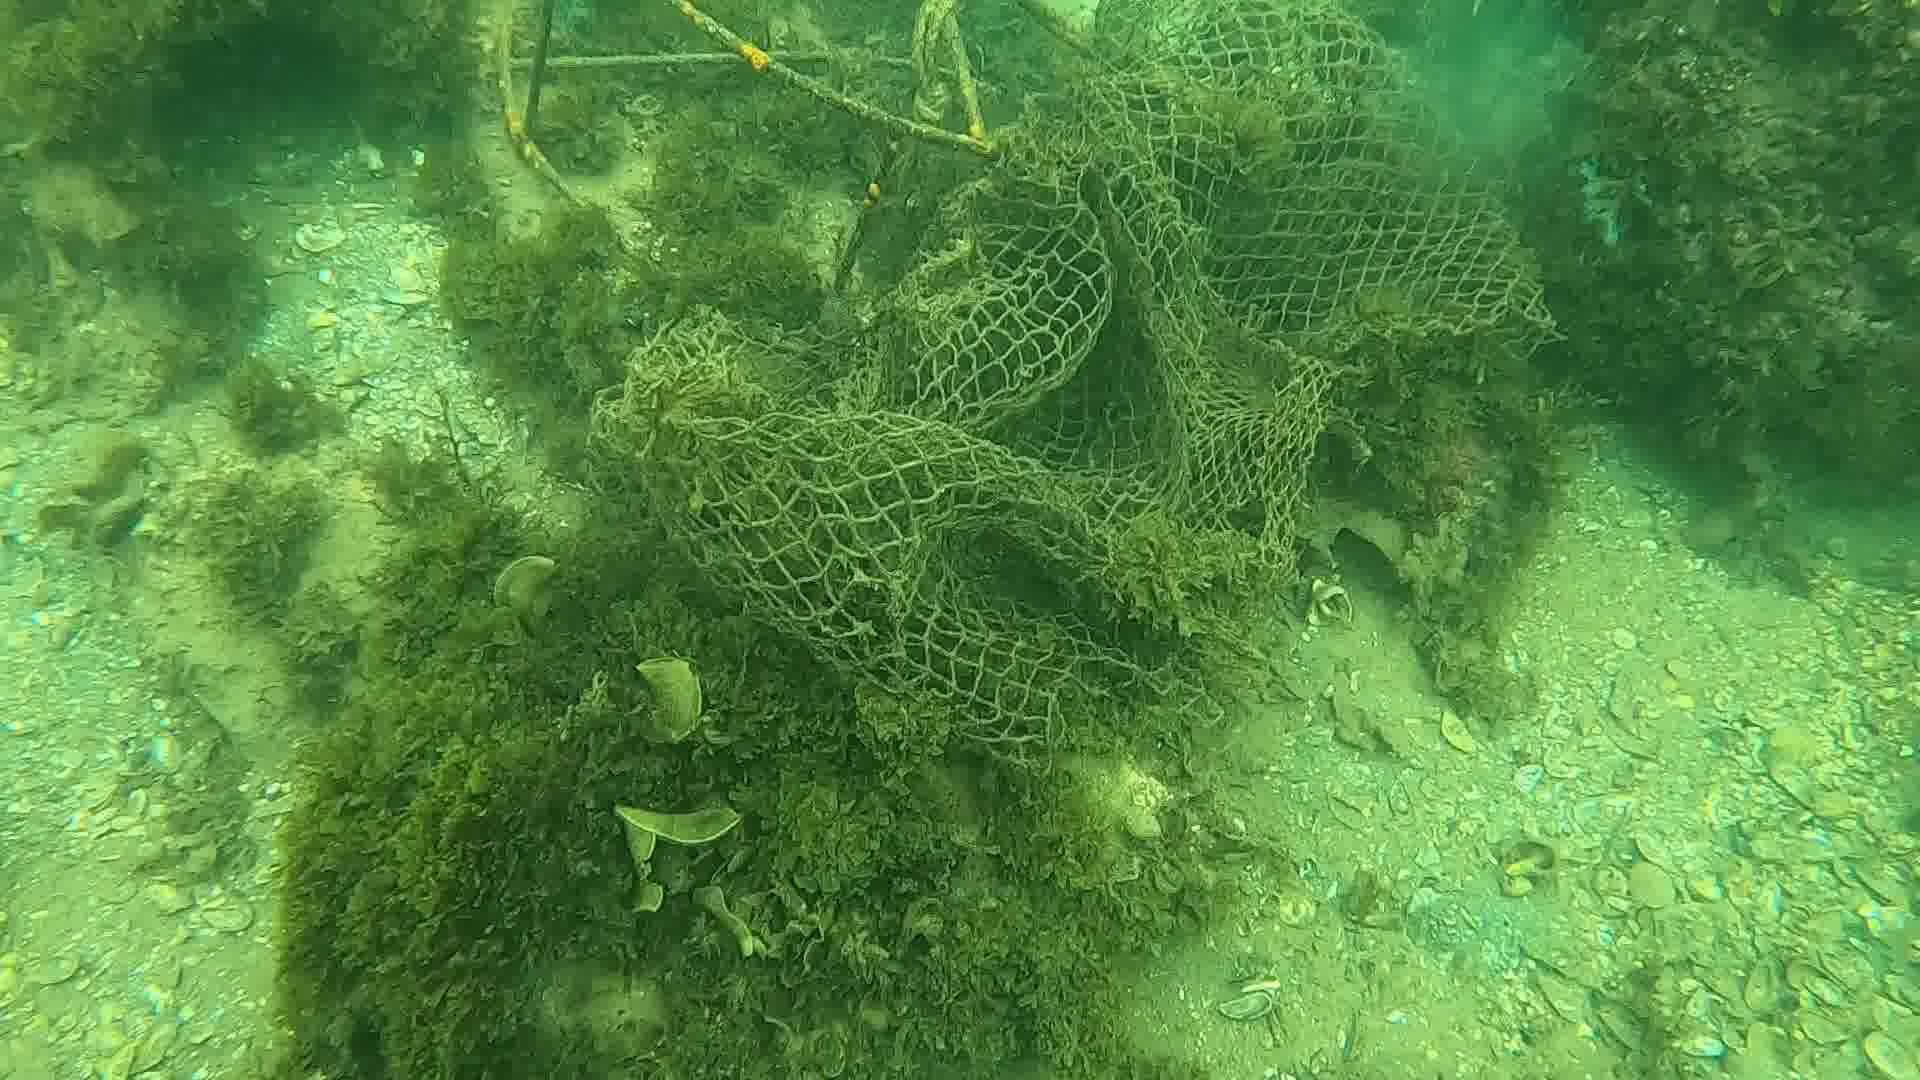fish net: (662, 0, 1555, 771)
